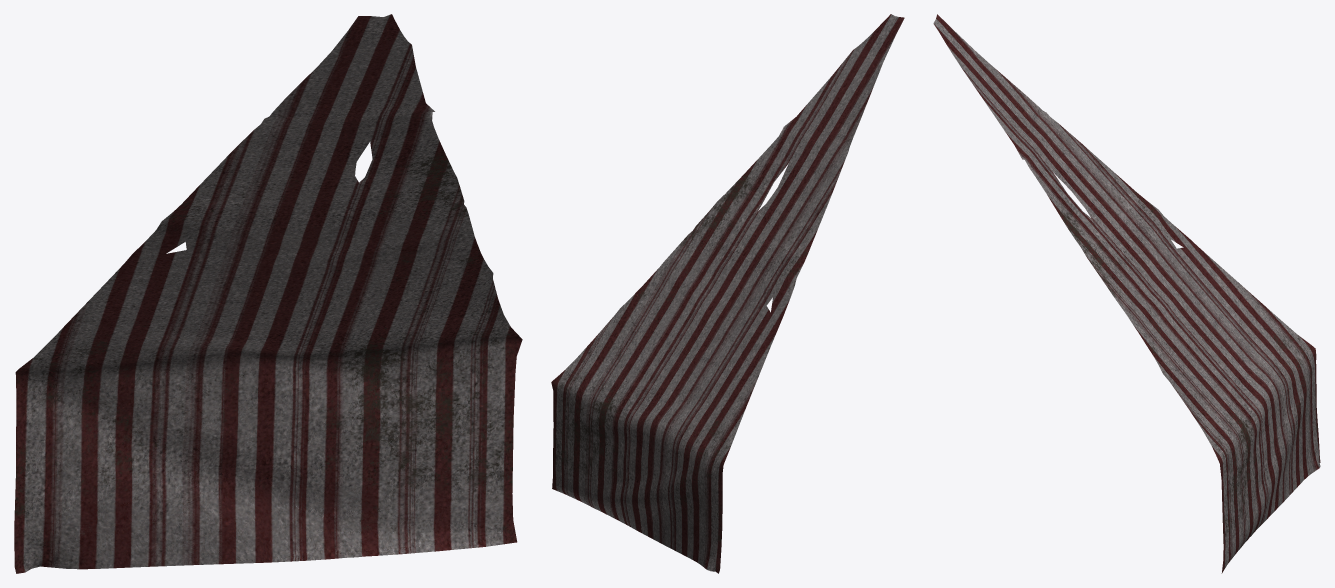
File: Tent_P_Rag04.FBX
3 renders of one model, left to right at view 1: azimuth 30°, elevation 25°; view 2: azimuth 150°, elevation 25°; view 3: azimuth 270°, elevation 25°, orthographic. The views are drawn at different scales.
Visible parts, largest first — view 1: Tent_P_Rag04; view 2: Tent_P_Rag04; view 3: Tent_P_Rag04.
Part boxes in pixels (box(x1,y1,x2,y2)): Tent_P_Rag04: box(14, 14, 522, 573); Tent_P_Rag04: box(551, 14, 904, 573); Tent_P_Rag04: box(933, 14, 1320, 573).
Size of the model in its own units: 932 by 1728 by 1352.
